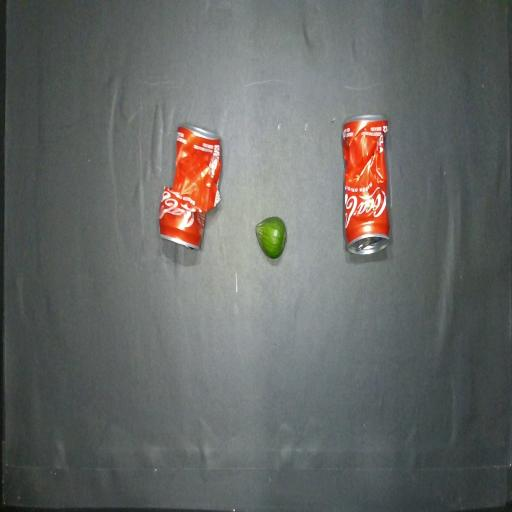higo: (256, 217, 286, 258)
lata_defectuoso: (159, 125, 222, 248), (342, 115, 389, 254)
